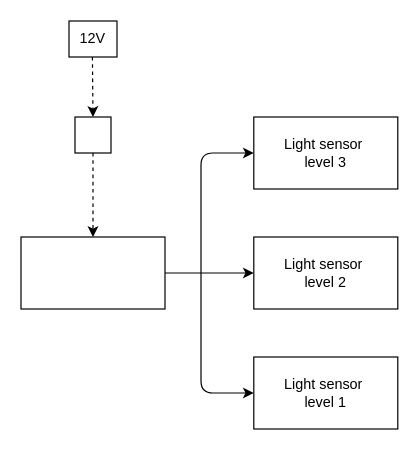
Image size: 419x450. Some labels were removed from this diagram. The centre of each missing label's shape, as x and y in pixels:
"5V" goes at pixel 92 134.
"ESP32" goes at pixel 92 272.
